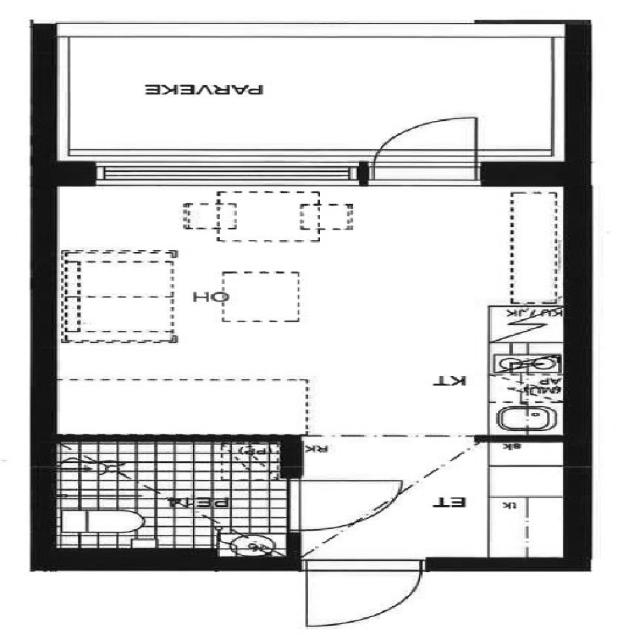door: (296, 562, 434, 630), (370, 112, 489, 169)
window: (352, 154, 493, 190)
zone: (48, 438, 284, 517), (484, 348, 568, 437)
